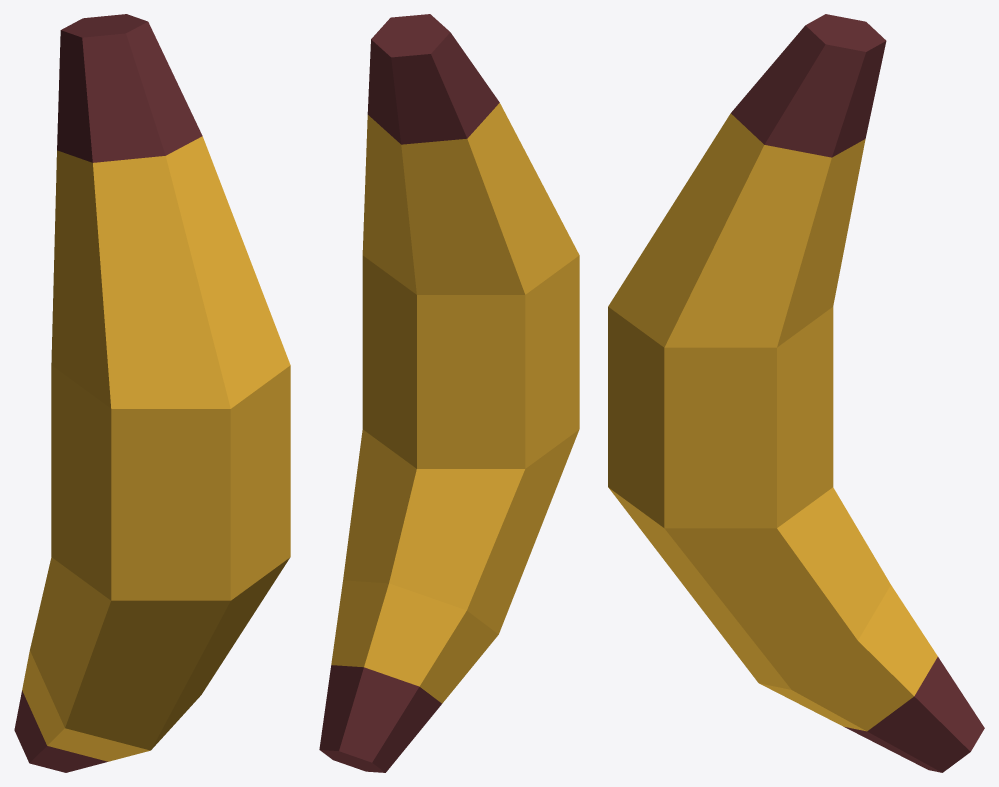
Rendered from Banana.fbx.
3 renders of one model, left to right at view 1: azimuth 30°, elevation 25°; view 2: azimuth 150°, elevation 25°; view 3: azimuth 270°, elevation 25°, orthographic. The views are drawn at different scales.
Parts seen in each view (by area): view 1: Banana; view 2: Banana; view 3: Banana.
Boxes of the visible parts, x1,y1,x2,y2 form: Banana: (14, 14, 290, 772); Banana: (319, 14, 579, 772); Banana: (608, 14, 984, 772).
Bounding box in the file's own units: 19.47 × 81.8 × 37.62.
